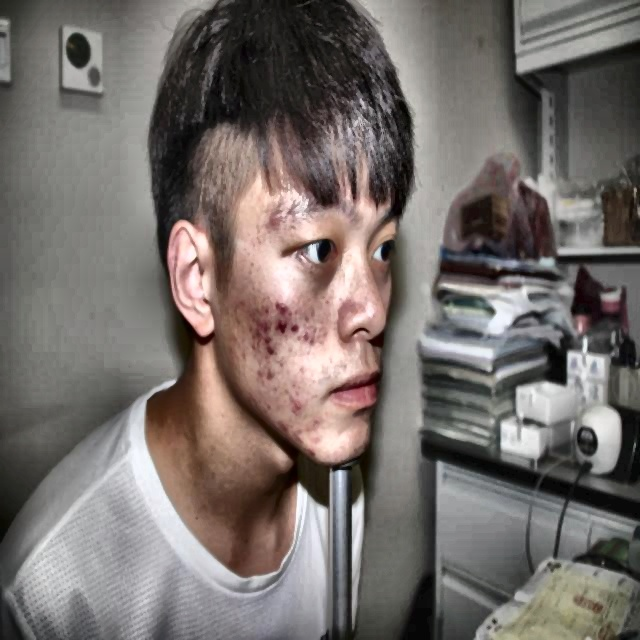papule: (268, 203, 292, 236), (302, 424, 318, 446), (274, 289, 291, 309), (244, 314, 260, 335), (298, 322, 310, 349), (275, 317, 291, 337), (309, 413, 327, 429), (258, 306, 272, 324), (292, 396, 306, 414), (310, 325, 320, 350), (267, 335, 279, 353), (282, 430, 294, 448), (284, 385, 298, 400), (266, 361, 279, 377), (260, 320, 272, 335), (280, 418, 291, 434), (265, 328, 275, 344), (248, 335, 258, 351), (310, 447, 320, 463), (289, 424, 301, 436), (290, 318, 297, 336)
